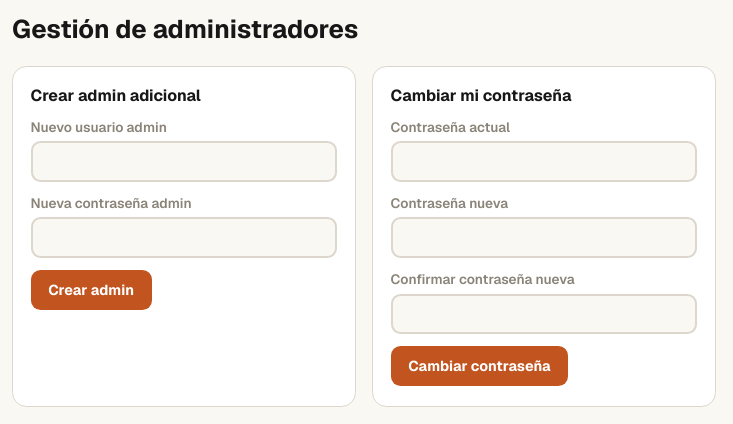
Test case: AdminManagement (T54, RF-6, RF-10) › shows the duplicate-username error when creating an admin
The image size is (733, 424).
In the field labelled "Nuevo usuario admin": [184, 162] box [31, 141, 337, 182], type "nuevo_admin"
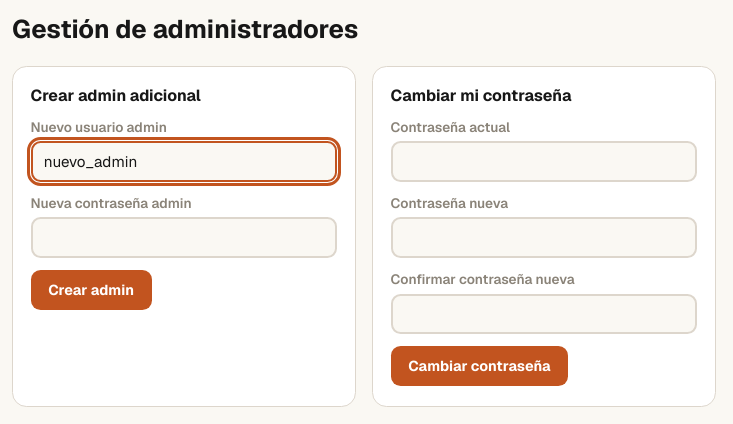
In the password field labelled "Nueva contraseña admin": [184, 238] box [31, 217, 337, 258], type "OtraSegura9"
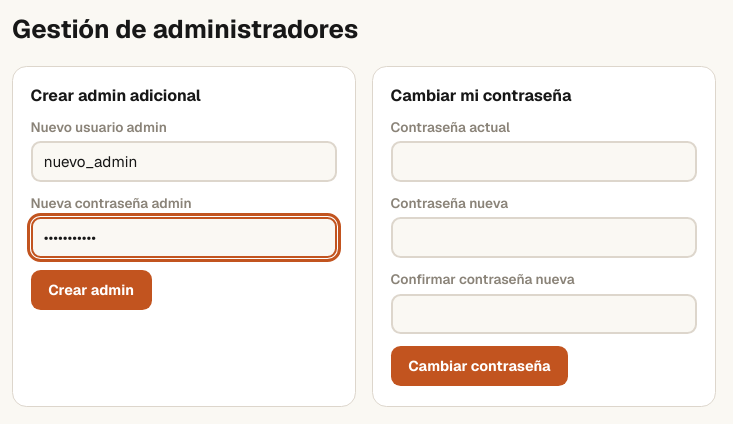
Click the button "Crear admin": [91, 290] box [31, 270, 152, 310]
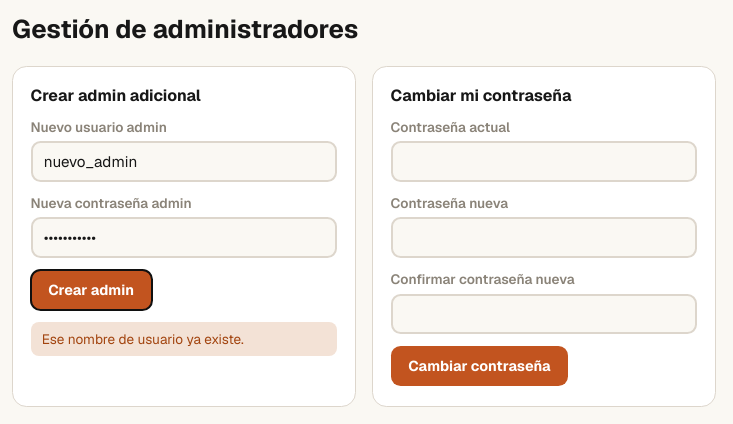
Now the text "Ese nombre de usuario ya existe." is shown, box [31, 322, 337, 356]
